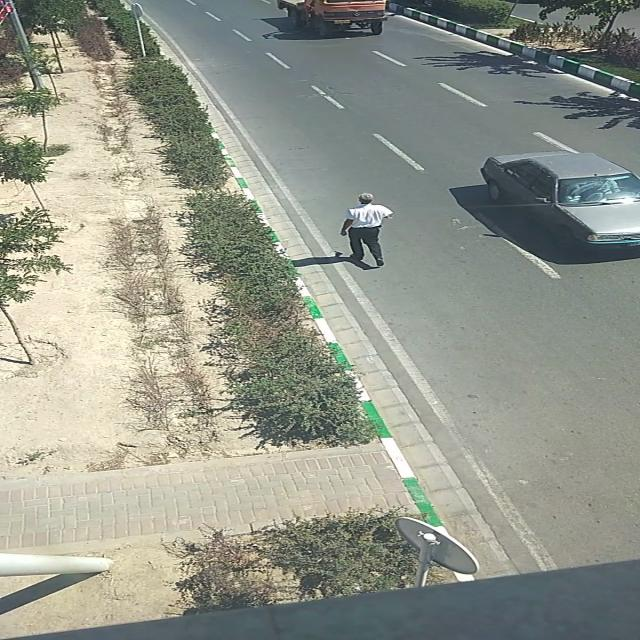car: (482, 152, 640, 250)
truck: (274, 1, 388, 35)
